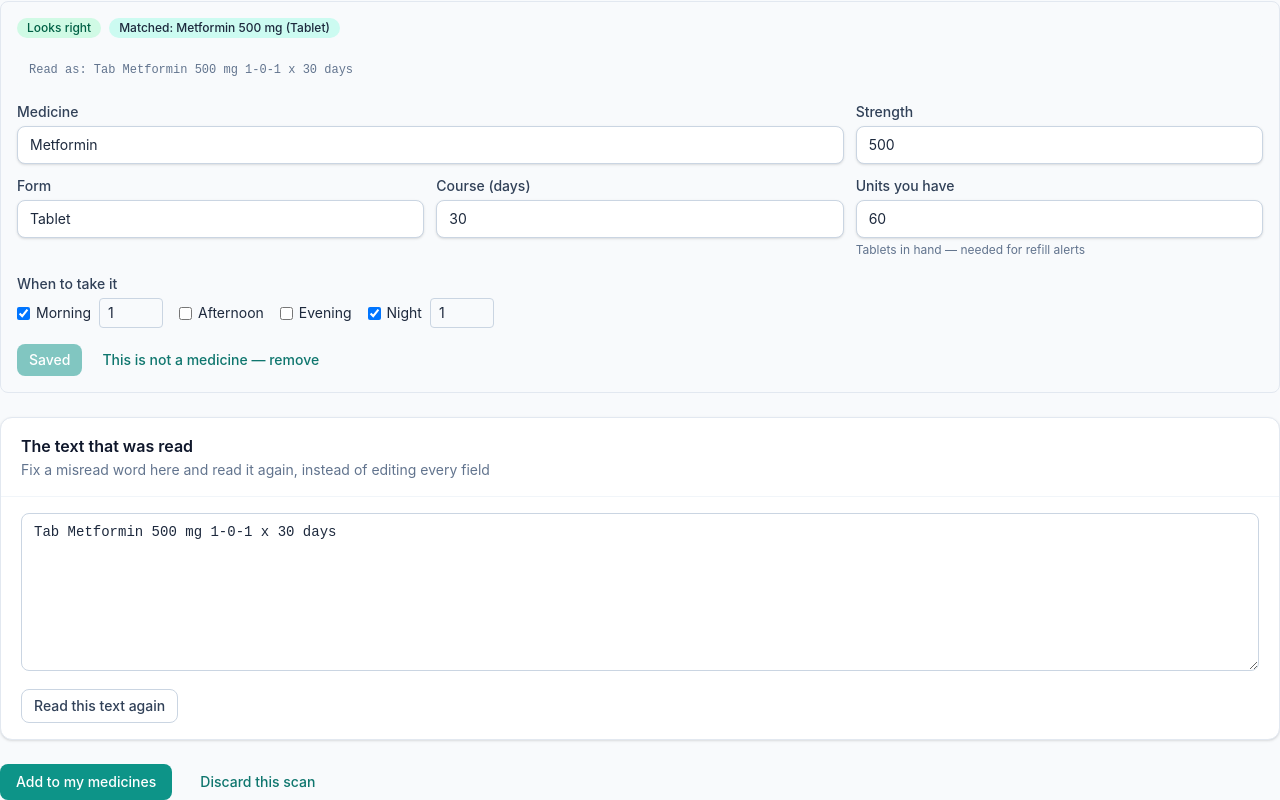
Scenario: ScanReview › surfaces the server complaint if confirming is refused
(page scrolled)
Click the button "Add to my medicines" at (86, 782), box top-left (0, 764), bottom-right (172, 799)
(page scrolled)
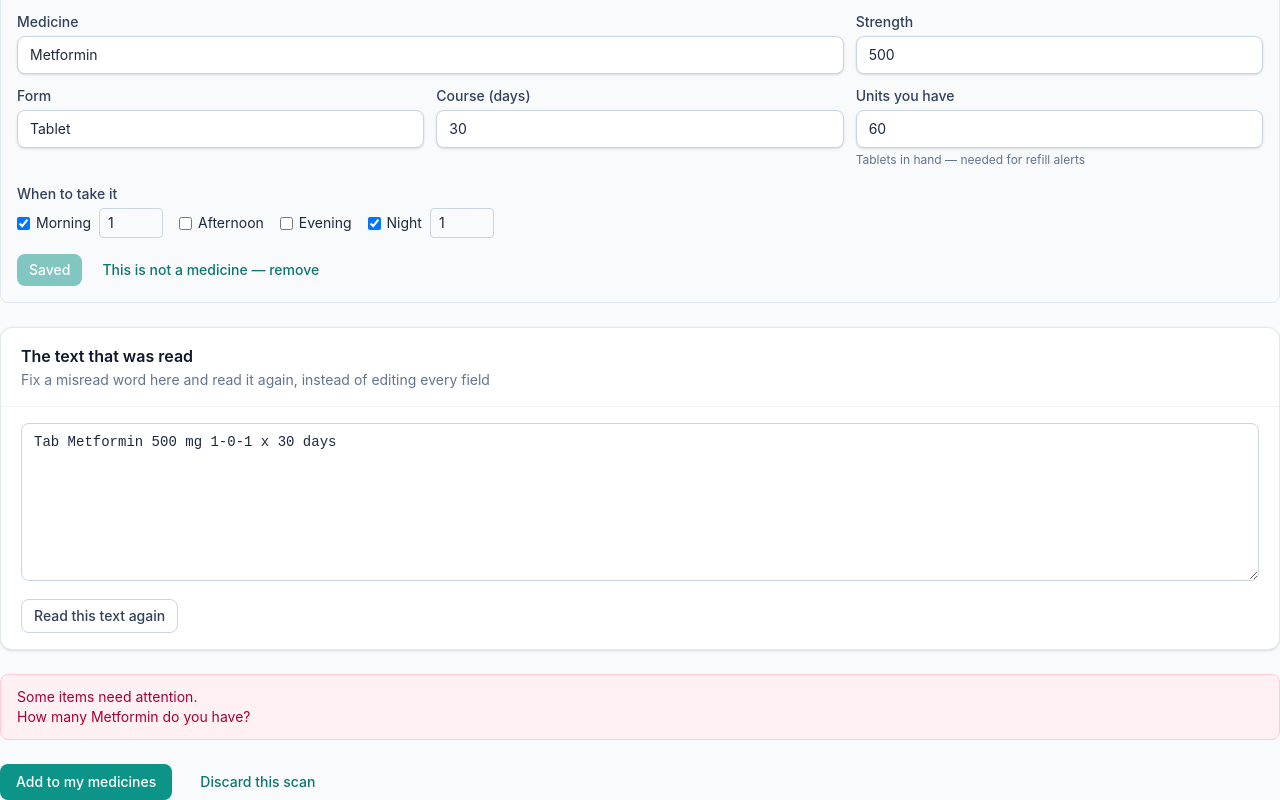
Result: the text "How many Metformin do you have?" is shown at top-left (17, 708), bottom-right (250, 725)
